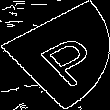P_NW: (14, 24, 96, 86)
